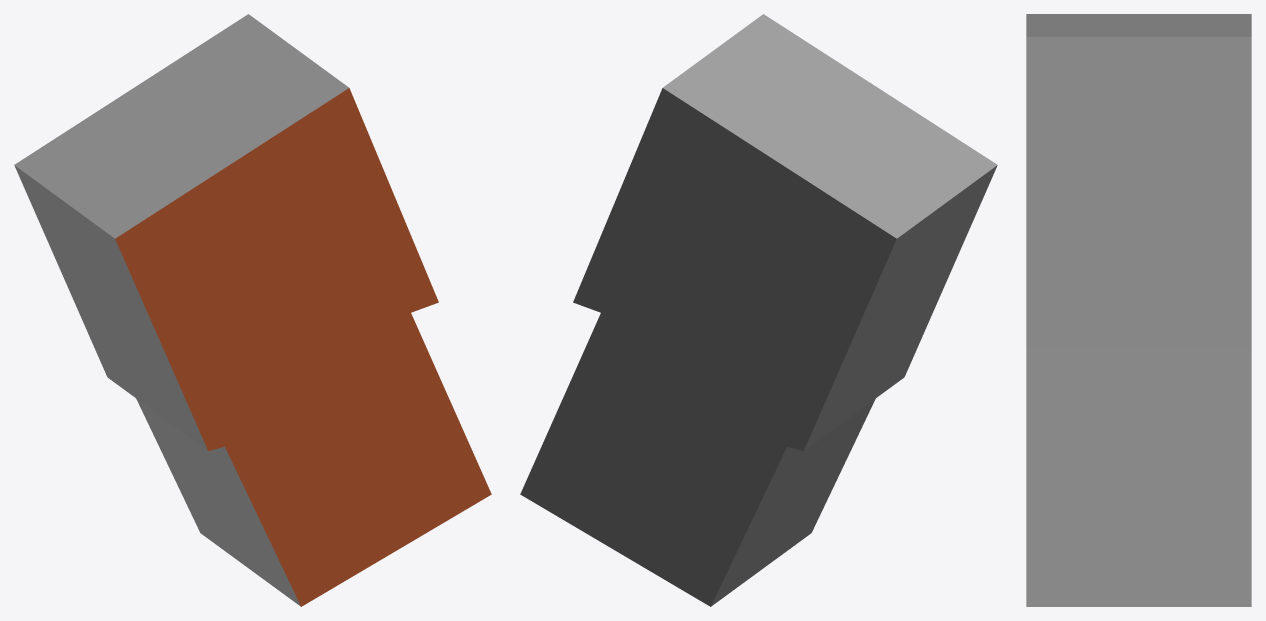
The model's file is construction_2549_assumed_A_Casa_h6m.obj.
3 views of the same model, side by side, from view 1: azimuth 30°, elevation 25°; view 2: azimuth 150°, elevation 25°; view 3: azimuth 270°, elevation 25° (orthographic). The views are drawn at different scales.
Visible parts, largest first — view 1: construction_2549_assumed_A_Casa; view 2: construction_2549_assumed_A_Casa; view 3: construction_2549_assumed_A_Casa.
Part boxes in pixels (box(x1,y1,x2,y2)): construction_2549_assumed_A_Casa: box(14, 14, 491, 606); construction_2549_assumed_A_Casa: box(520, 14, 997, 606); construction_2549_assumed_A_Casa: box(1026, 14, 1251, 606).
Bounding box in the file's own units: 12.93 × 16.64 × 6.
